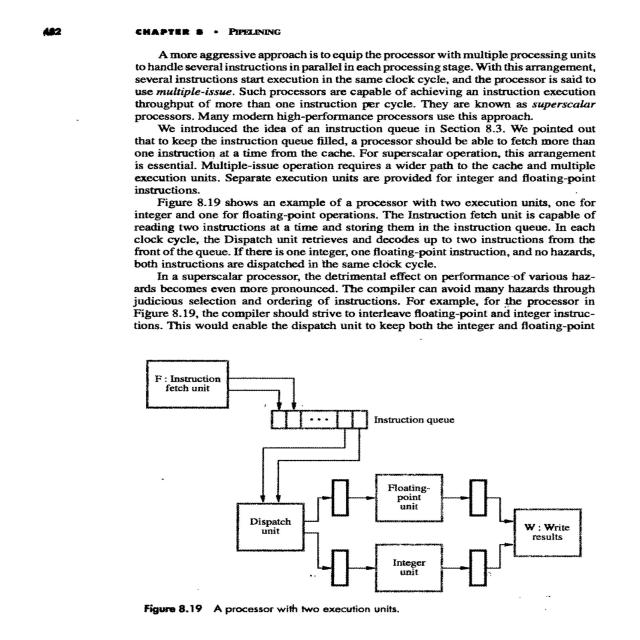diagram: (61, 352, 596, 634)
